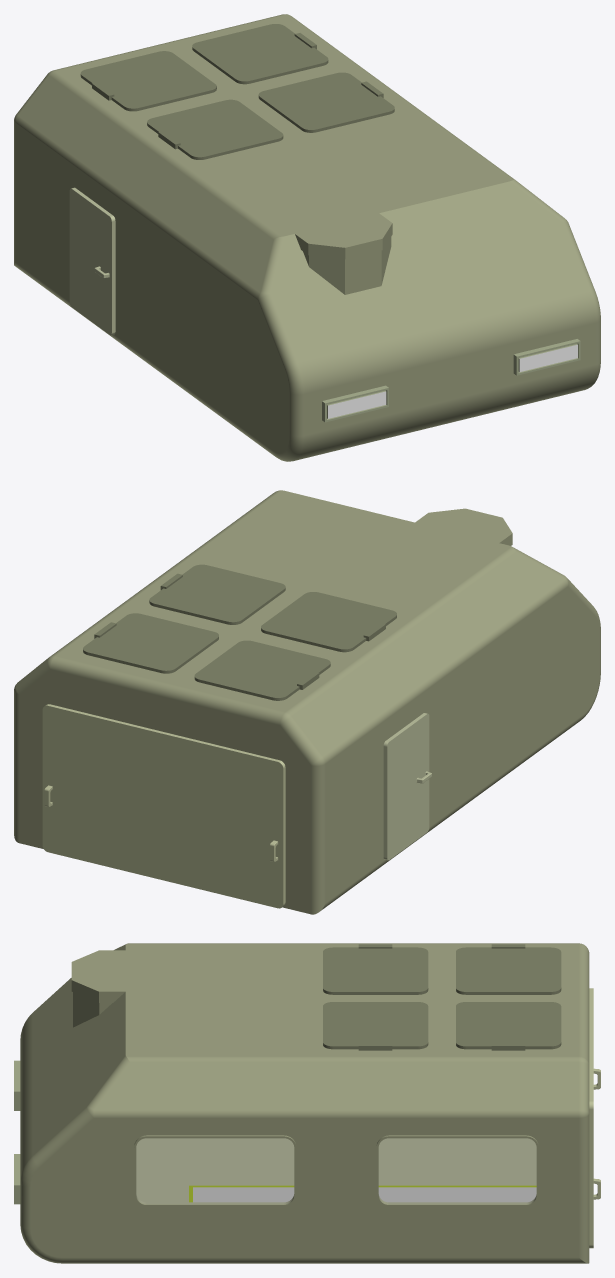
The model's file is car_main.glb.
3 views of the same model, one above another, from view 1: azimuth 30°, elevation 25°; view 2: azimuth 150°, elevation 25°; view 3: azimuth 270°, elevation 25° (orthographic).
Parts seen in each view (by area): view 1: body_shell-1, door right-3, door_top-2, door_top-1, door_top-3, door_top-4, 零件-前车灯-1; view 2: body_shell-1, door_rear-1, door right-3, door_top-2, door_top-1, door_top-3, door_top-4; view 3: body_shell-1, 零件-左侧玻璃-后-1, 零件-左侧玻璃-前-1, door_top-3, door_top-4, door_top-1, door_top-2, stretcher_slide-1, door_rear-1, stretcher_fixed-1, 零件-前车灯-1.
Part boxes in pixels (bbox=[...]): body_shell-1: bbox=[14, 14, 600, 461]; door right-3: bbox=[69, 187, 115, 335]; door_top-2: bbox=[258, 72, 394, 132]; door_top-1: bbox=[192, 24, 328, 84]; door_top-3: bbox=[80, 51, 216, 111]; door_top-4: bbox=[147, 99, 283, 159]; 零件-前车灯-1: bbox=[322, 339, 580, 422]; body_shell-1: bbox=[14, 490, 600, 914]; door_rear-1: bbox=[42, 704, 285, 908]; door right-3: bbox=[383, 713, 431, 860]; door_top-2: bbox=[149, 564, 285, 624]; door_top-1: bbox=[83, 613, 218, 673]; door_top-3: bbox=[194, 640, 330, 700]; door_top-4: bbox=[261, 592, 396, 652]; body_shell-1: bbox=[20, 943, 589, 1263]; 零件-左侧玻璃-后-1: bbox=[379, 1139, 535, 1203]; 零件-左侧玻璃-前-1: bbox=[137, 1139, 293, 1203]; door_top-3: bbox=[456, 944, 561, 994]; door_top-4: bbox=[323, 944, 428, 994]; door_top-1: bbox=[456, 1002, 561, 1050]; door_top-2: bbox=[323, 1002, 428, 1050]; stretcher_slide-1: bbox=[193, 1187, 536, 1202]; door_rear-1: bbox=[589, 988, 600, 1248]; stretcher_fixed-1: bbox=[189, 1185, 536, 1202]; 零件-前车灯-1: bbox=[14, 1060, 20, 1204].
Bounding box in the file's own units: 1.76 × 1.03 × 2.78.
